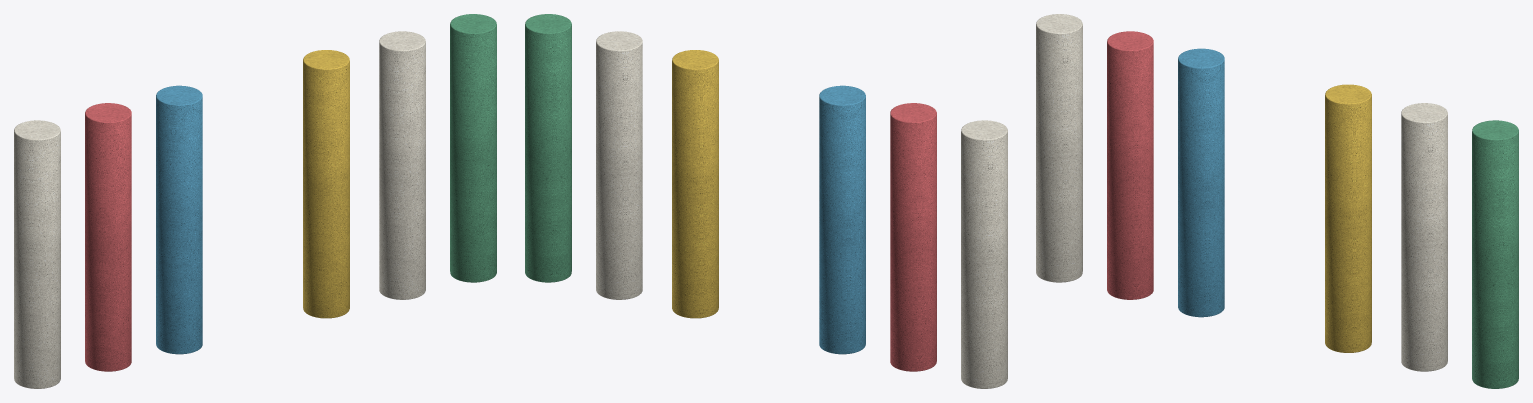
The model's file is 3-six-round-chalk-columns.fbx.
3 views of the same model, side by side, from view 1: azimuth 30°, elevation 25°; view 2: azimuth 150°, elevation 25°; view 3: azimuth 330°, elevation 25° (orthographic).
Visible parts, largest first — view 1: six-round-chalk-columns; view 2: six-round-chalk-columns; view 3: six-round-chalk-columns.
Part boxes in pixels (x1,y1,x2,y2): six-round-chalk-columns: (14,14,496,388); six-round-chalk-columns: (525,14,1007,388); six-round-chalk-columns: (1036,14,1518,388).
Bounding box in the file's own units: 9400 × 4700 × 800.
1 material, 1 textured.
